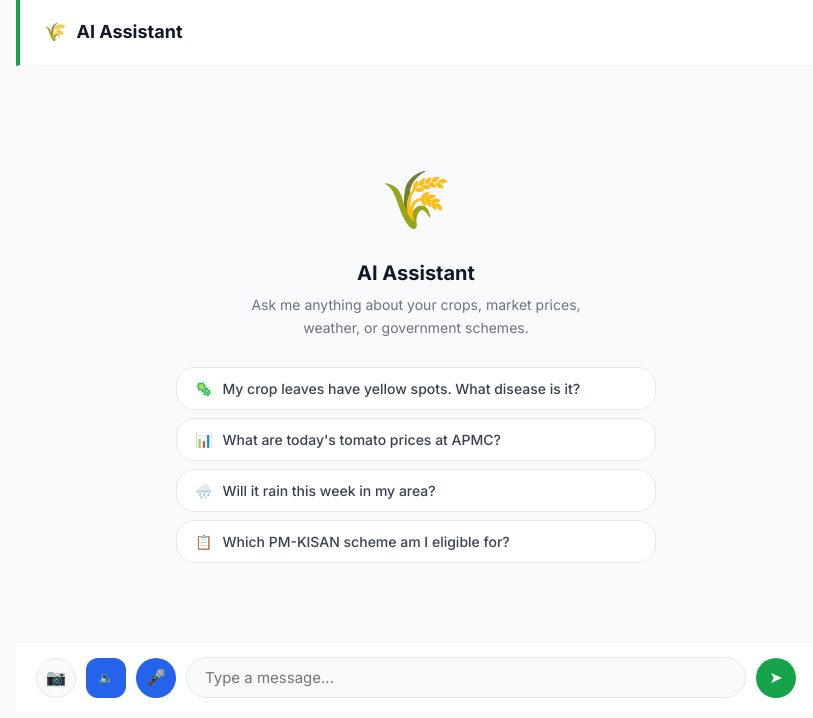
ChatPage › handles API error gracefully
In the field with test id "chat-input": (466, 678) [186,657,746,698], type "test"
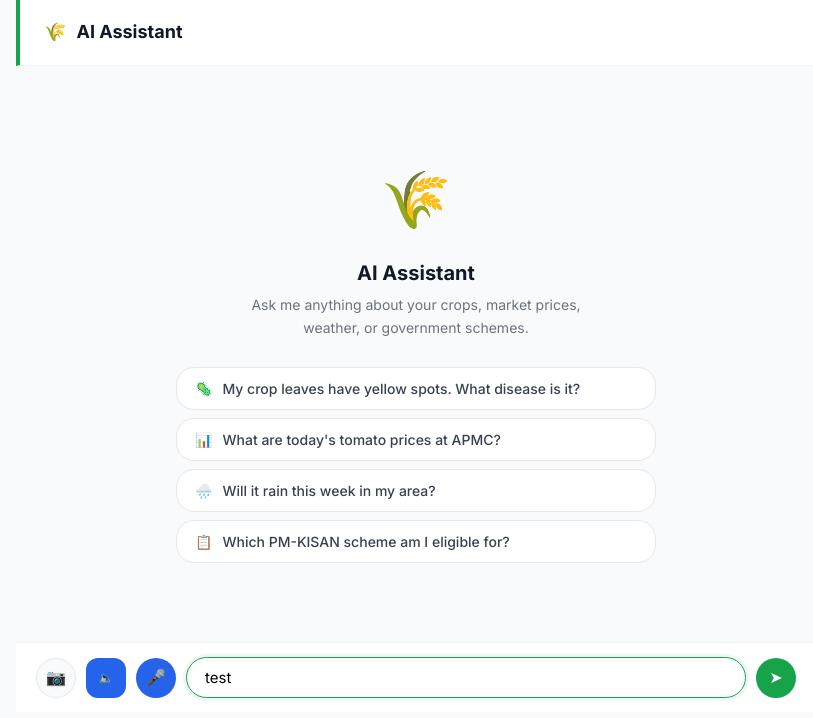
Click the button with test id "send-btn": click(776, 678) [756,658,796,698]
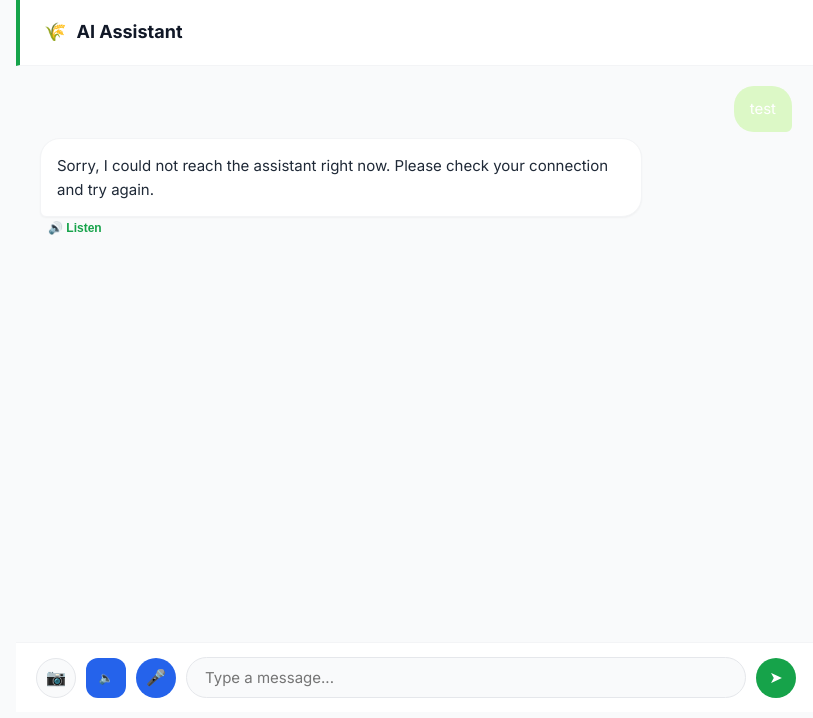
Expected: the text "could not reach the assistant" is shown, [57,156,608,199]
